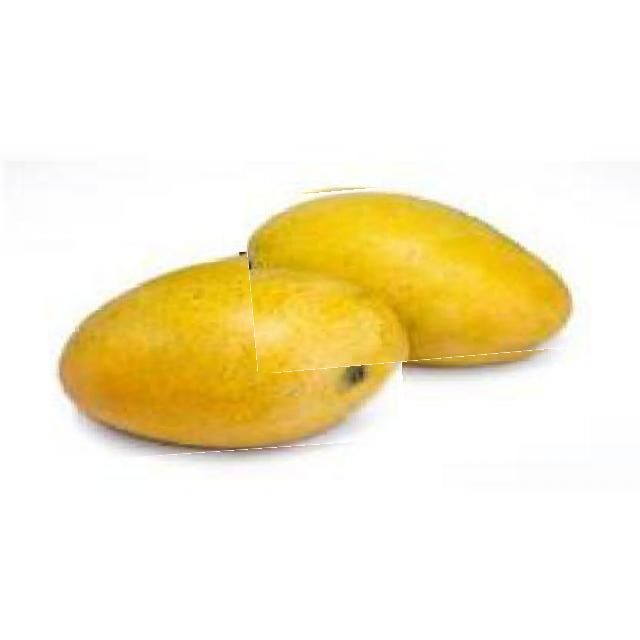mango: (43, 247, 403, 456), (246, 178, 582, 367)
